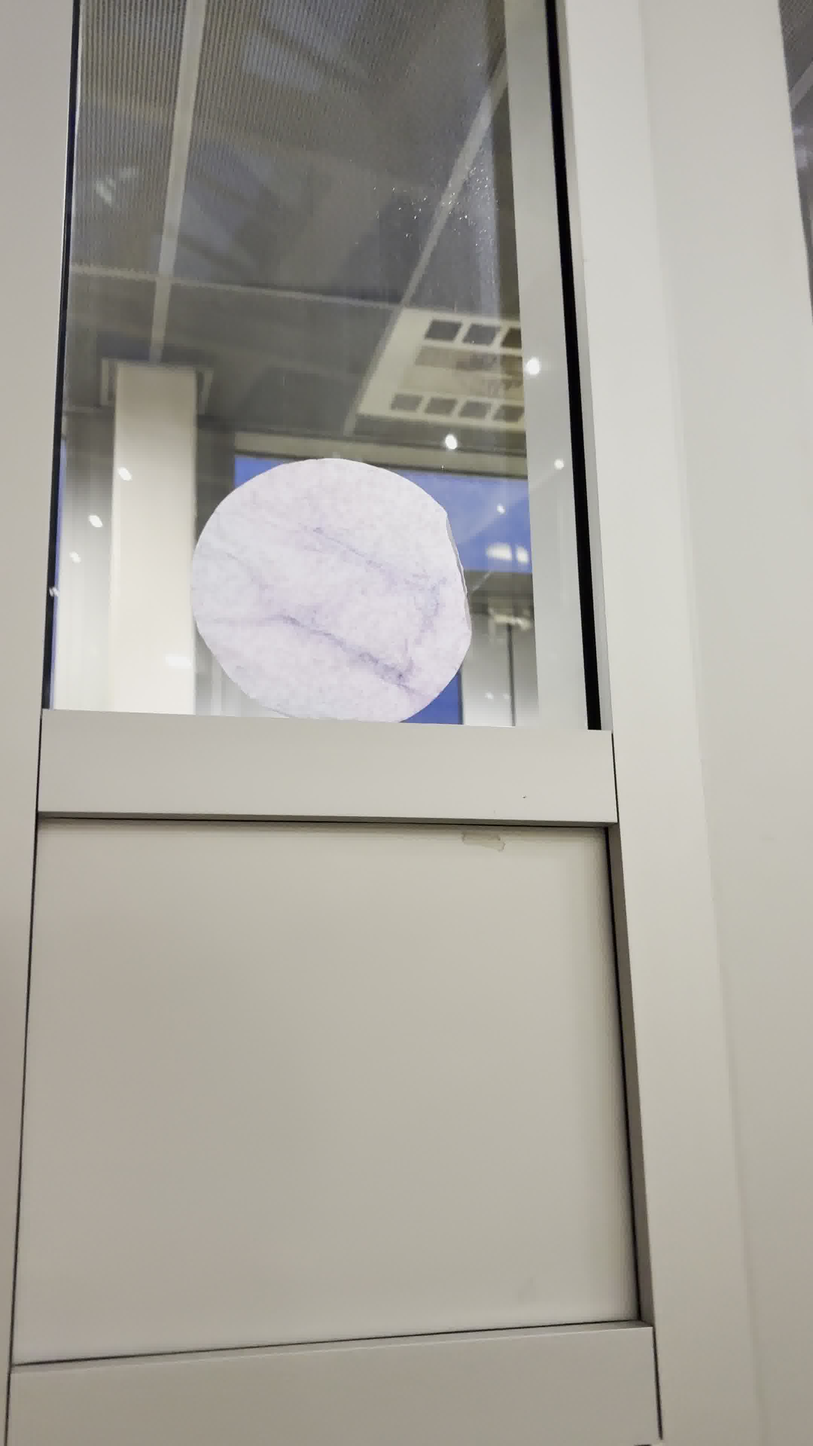Target: (186, 455, 474, 726)
